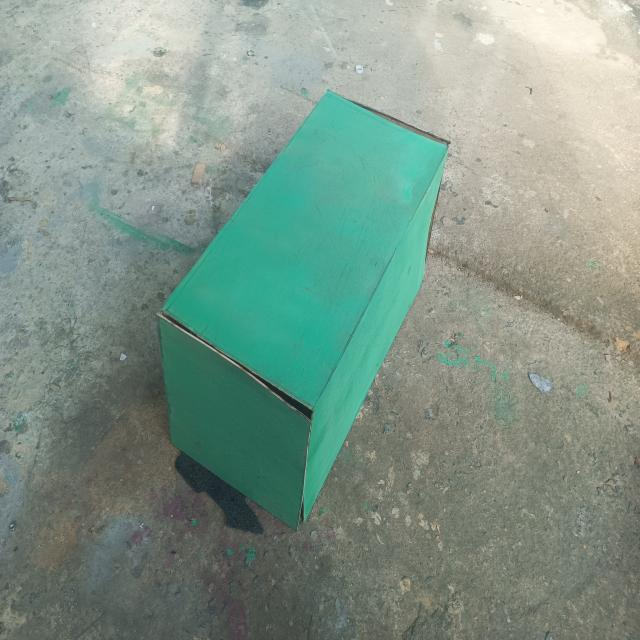green_box: (133, 53, 461, 540)
